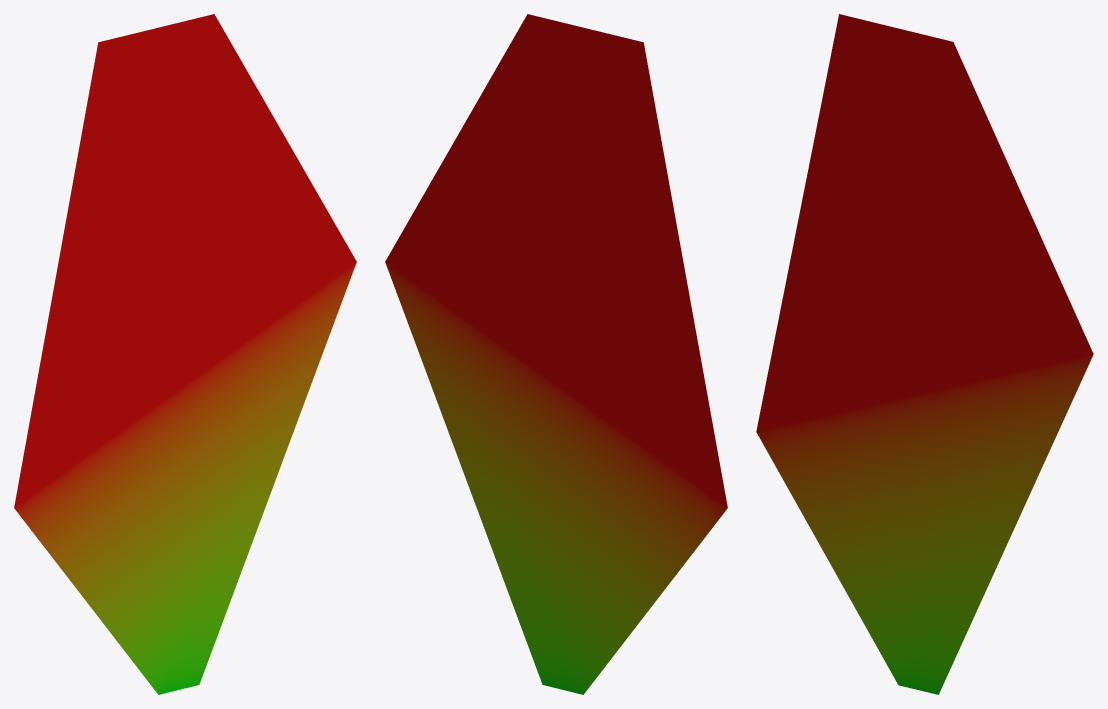
The model's file is Var2_LOD5.fbx.
The picture shows the model from 3 angles, left to right: view 1: azimuth 30°, elevation 25°; view 2: azimuth 150°, elevation 25°; view 3: azimuth 330°, elevation 25°; orthographic projection.
Parts seen in each view (by area): view 1: _f376_Var2_LOD5; view 2: _f376_Var2_LOD5; view 3: _f376_Var2_LOD5.
Boxes of the visible parts, x1,y1,x2,y2 form: _f376_Var2_LOD5: [14, 14, 356, 694]; _f376_Var2_LOD5: [385, 14, 727, 694]; _f376_Var2_LOD5: [756, 14, 1093, 694].
Bounding box in the file's own units: 62.03 × 115 × 1.34e-05.
